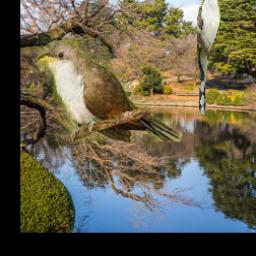Cuckoo: (37, 41, 180, 143), (197, 0, 221, 114)
